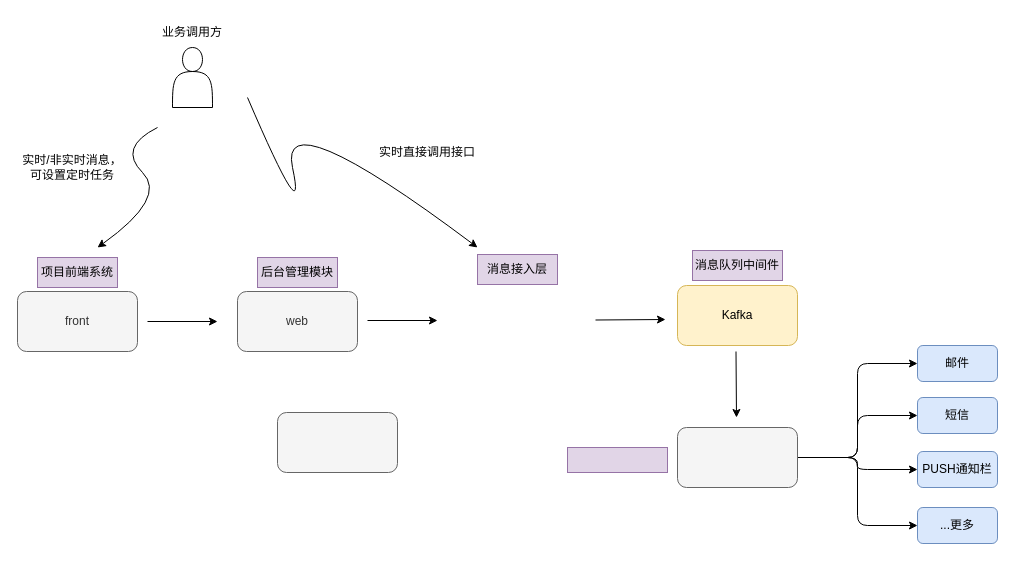
Some shapes in this 1015 by 561 pixel diagram are drawn without their labels. The shapes that lost their labels are listed below. From the top down, each one's box as (x1, y1, x2, y2) in pixels, then its label:
(276, 412, 398, 472): api
(566, 446, 668, 472): 消息逻辑处理模块
(676, 426, 798, 488): handler
